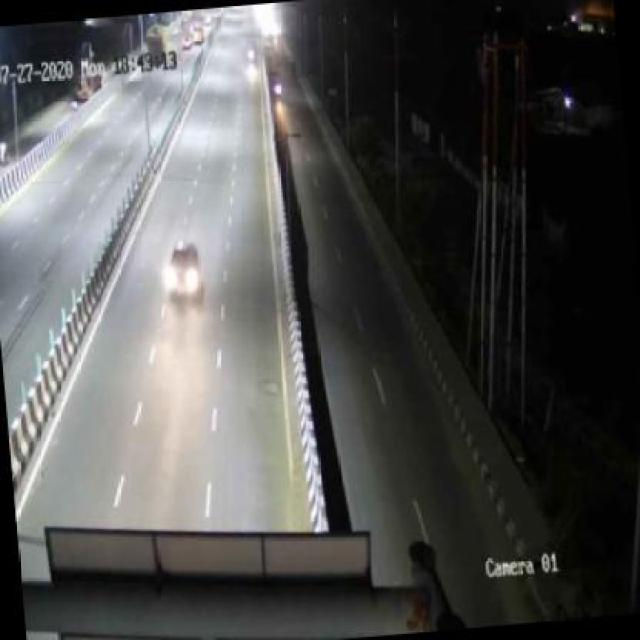car: (160, 239, 212, 306)
